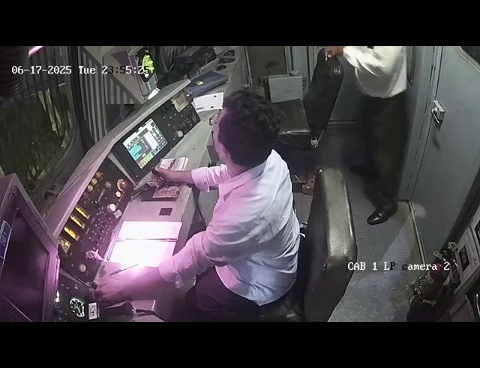horn_active: (82, 269, 134, 315)
